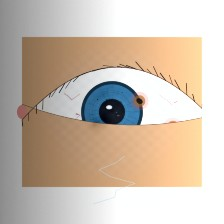foreign_body_visible: (122, 87, 157, 115)
